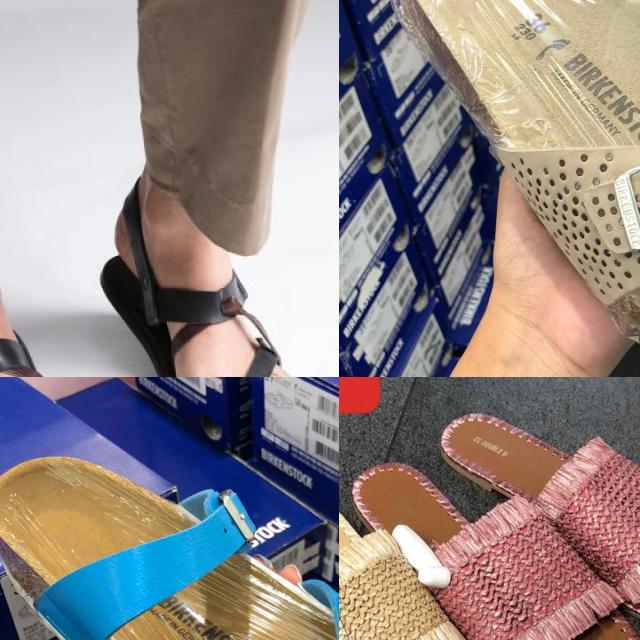Sandals: (370, 0, 640, 368), (341, 385, 640, 640), (0, 426, 339, 640), (99, 172, 314, 377), (339, 446, 489, 640)
